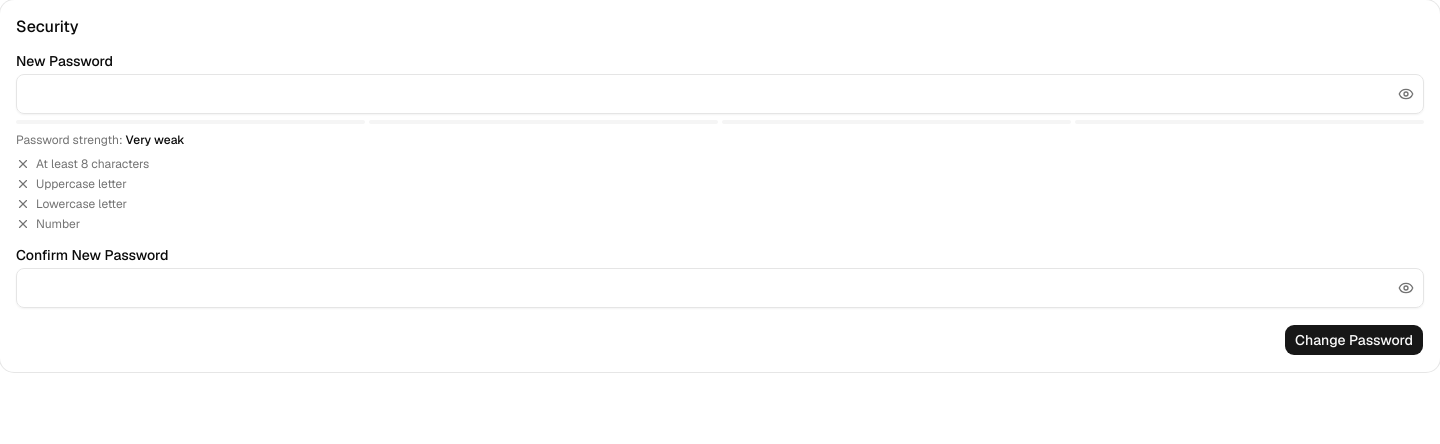
Test: ChangePasswordForm › shows success feedback and clears the password fields after a successful update
The image size is (1440, 444).
In the password field labelled "New Password": coordinates (720, 94) top-left (16, 74), bottom-right (1424, 114), type "StrongPass1"
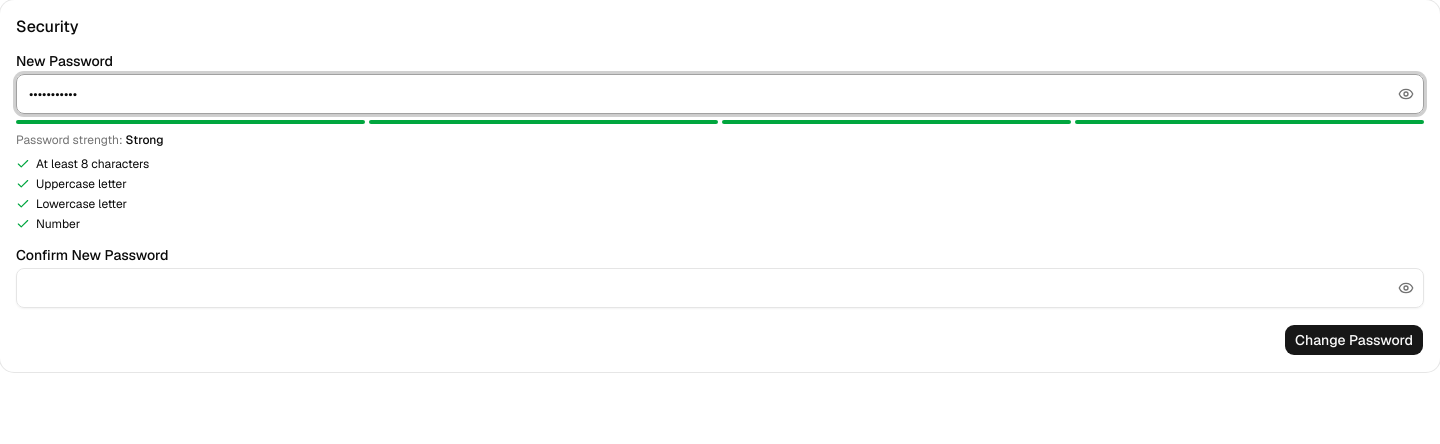
In the password field labelled "Confirm New Password": coordinates (720, 288) top-left (16, 268), bottom-right (1424, 308), type "StrongPass1"
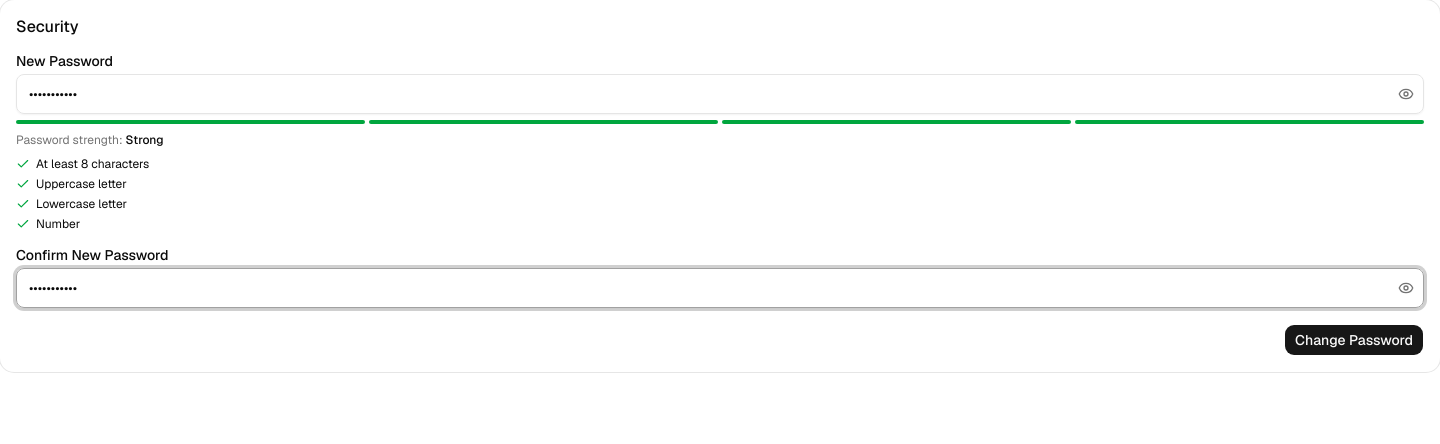
Click the button "Change Password": coordinates (1354, 340) top-left (1284, 324), bottom-right (1424, 356)
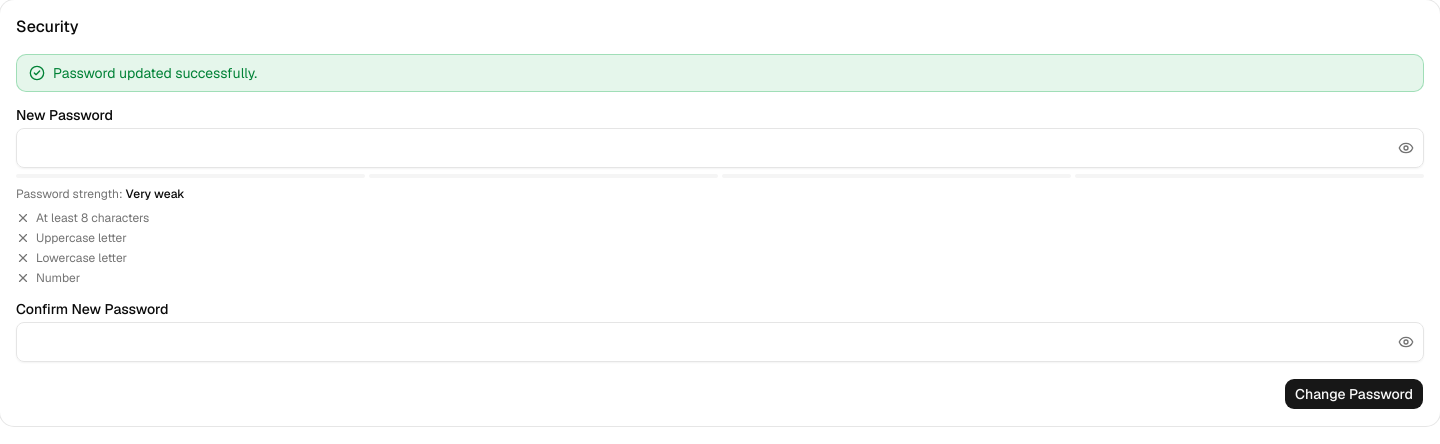
Expected: the text "Password updated successfully." is shown, top-left (53, 63), bottom-right (257, 83)
Expected: the password field labelled "New Password" is empty, top-left (16, 128), bottom-right (1424, 168)
Expected: the password field labelled "Confirm New Password" is empty, top-left (16, 322), bottom-right (1424, 362)
